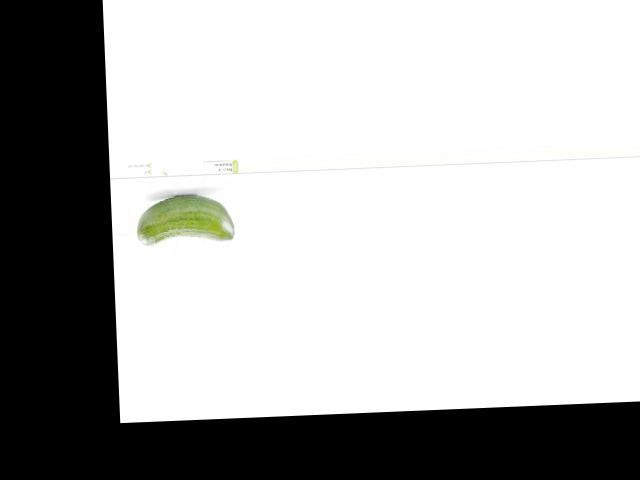cucumber: (135, 192, 234, 244)
